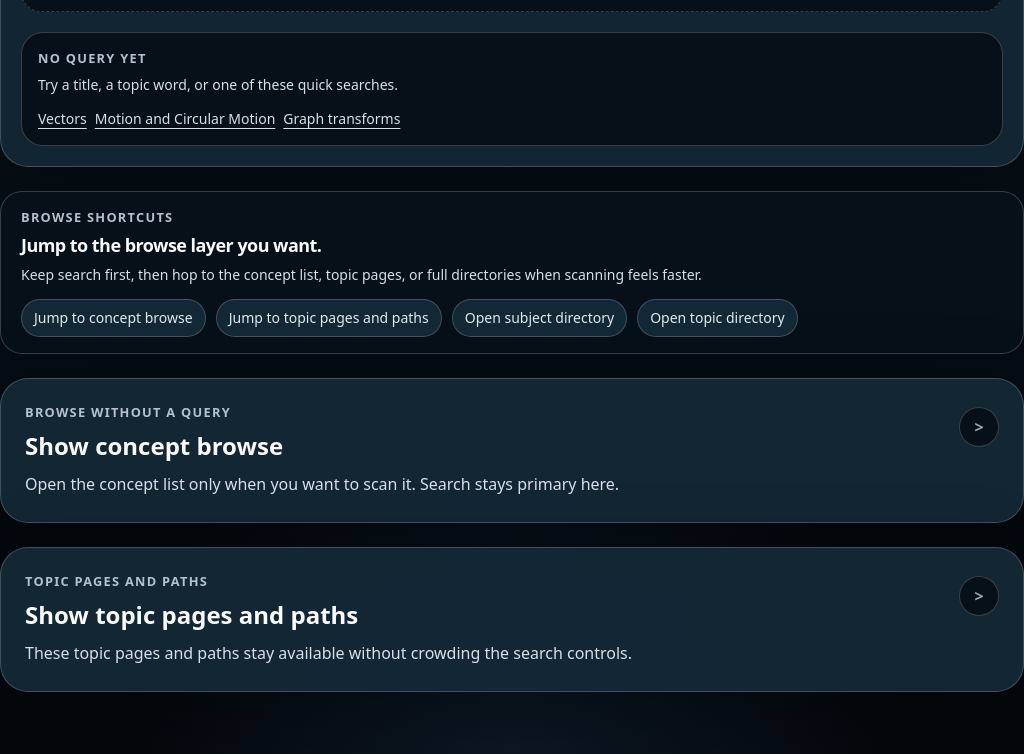
SearchPage › keeps concept browse behind disclosure when no query is active
The image size is (1024, 754).
(page scrolled)
Expected: the text "Browse shortcuts" is shown, x1=21 y1=208 x2=173 y2=226
Expected: the heading "Jump to the browse layer you want." is shown, x1=21 y1=233 x2=322 y2=257
Step 1. Click the text "Show concept browse" → (154, 445), box x1=25 y1=429 x2=283 y2=462
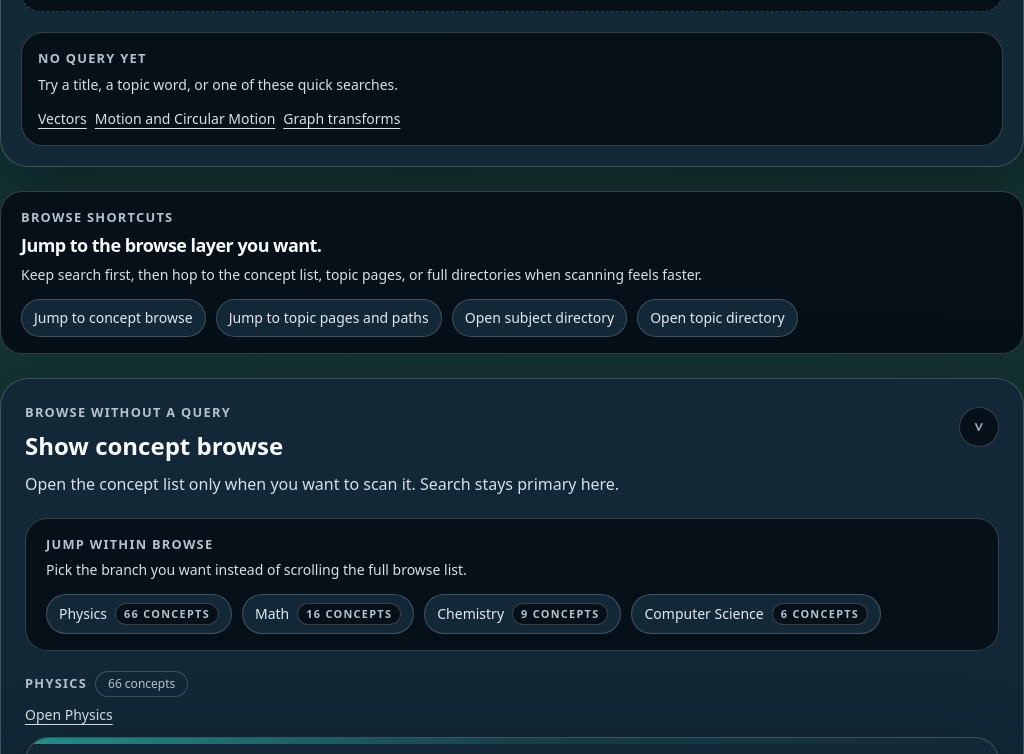
Now the text "Jump within browse" is shown, box x1=46 y1=535 x2=213 y2=553
